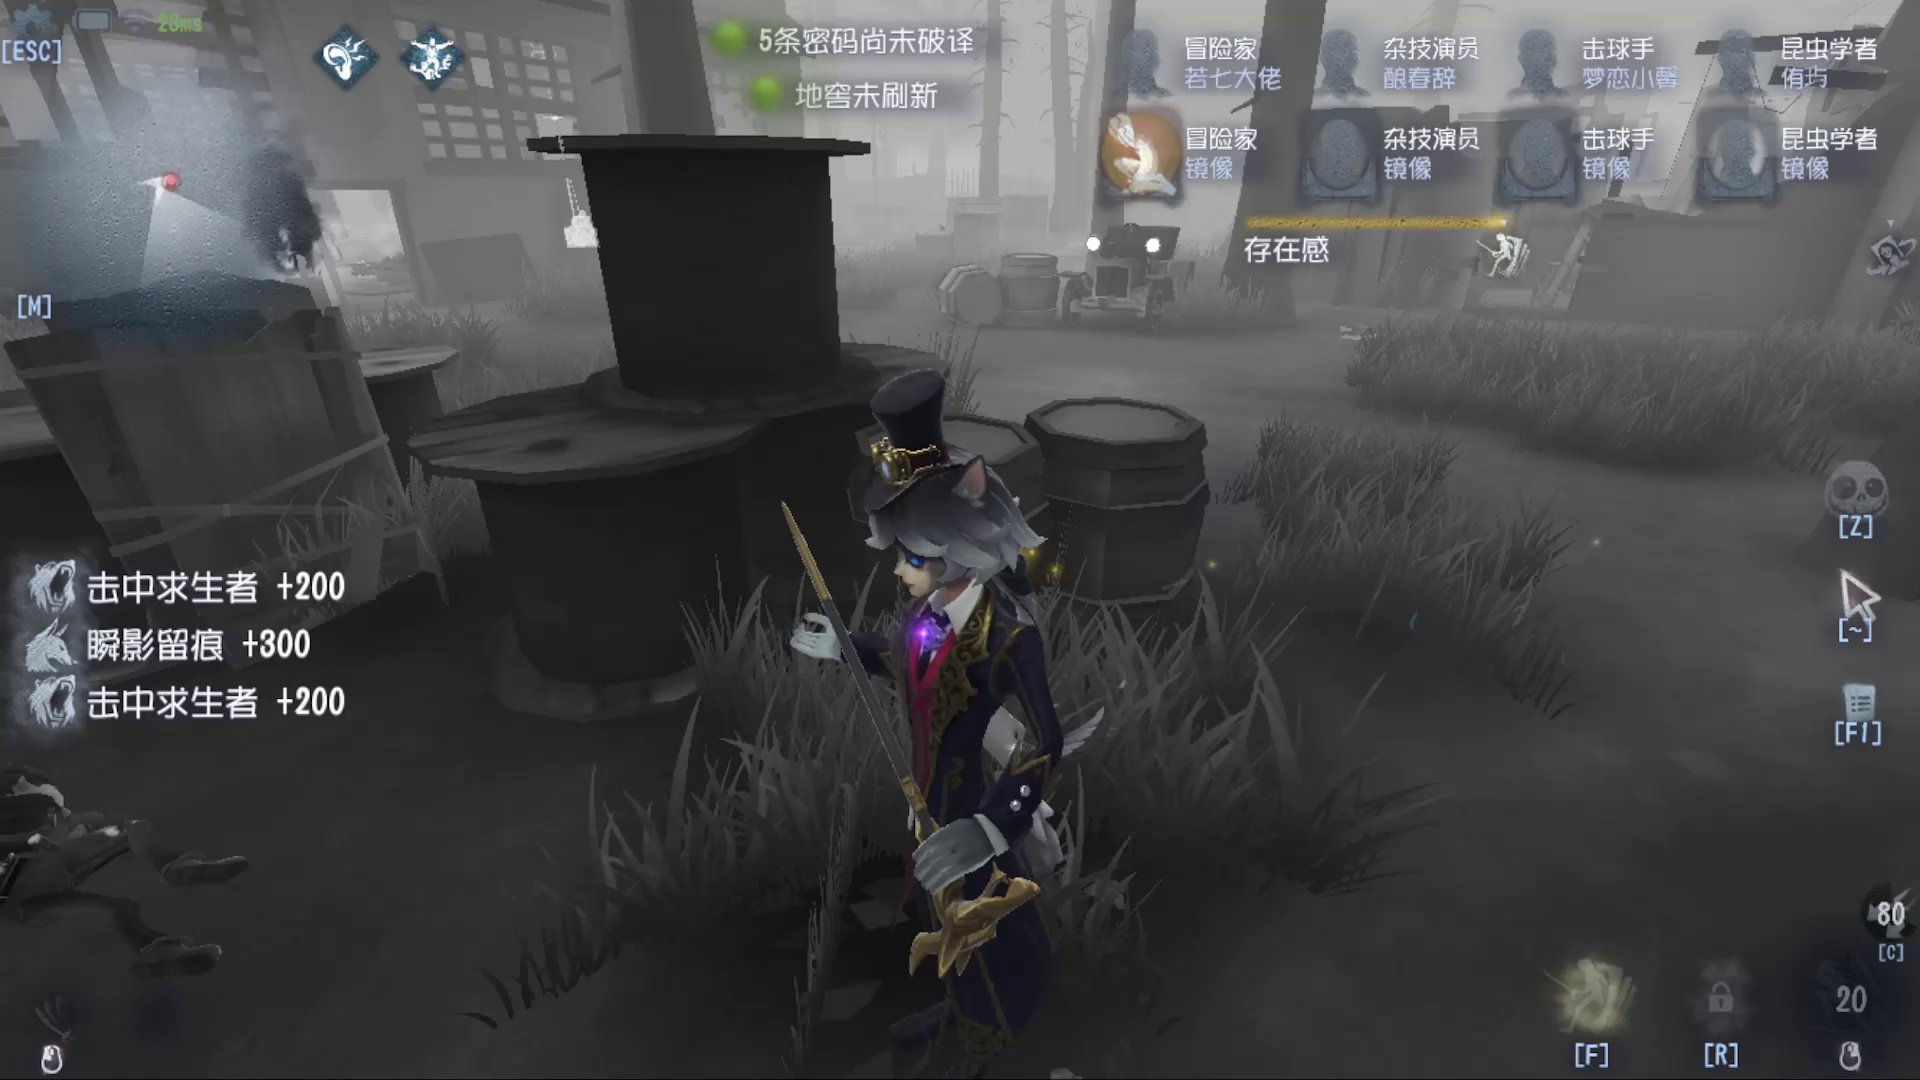木板: (40, 269, 411, 628), (531, 100, 626, 266), (1540, 212, 1605, 320)
